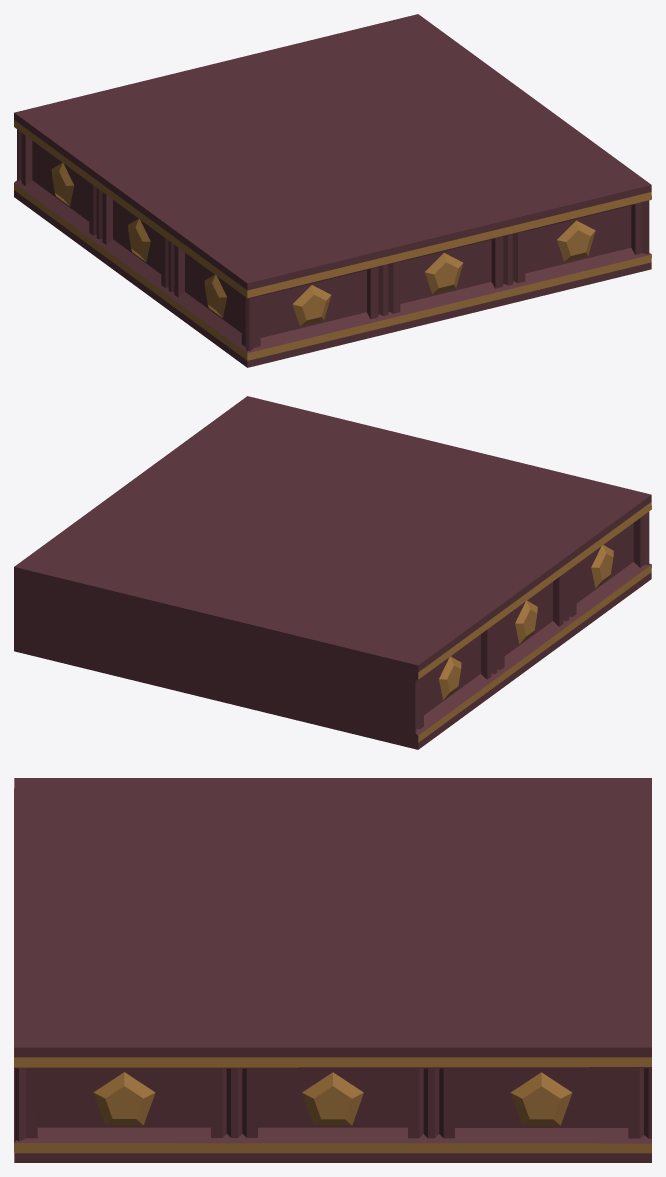
Rendered from SM_Architrave_3x3m_Ornament_FLR_Empire.fbx.
3 renders of one model, top to bottom at view 1: azimuth 30°, elevation 25°; view 2: azimuth 150°, elevation 25°; view 3: azimuth 270°, elevation 25°, orthographic. The views are drawn at different scales.
Parts seen in each view (by area): view 1: SM_Architrave_3x3m_Ornament_FLR_Empire; view 2: SM_Architrave_3x3m_Ornament_FLR_Empire; view 3: SM_Architrave_3x3m_Ornament_FLR_Empire.
Part boxes in pixels (x1=…): SM_Architrave_3x3m_Ornament_FLR_Empire: x1=14, y1=14, x2=651, y2=367; SM_Architrave_3x3m_Ornament_FLR_Empire: x1=14, y1=396, x2=651, y2=749; SM_Architrave_3x3m_Ornament_FLR_Empire: x1=14, y1=778, x2=651, y2=1162.
Bounding box in the file's own units: 3 × 0.5993 × 3.
